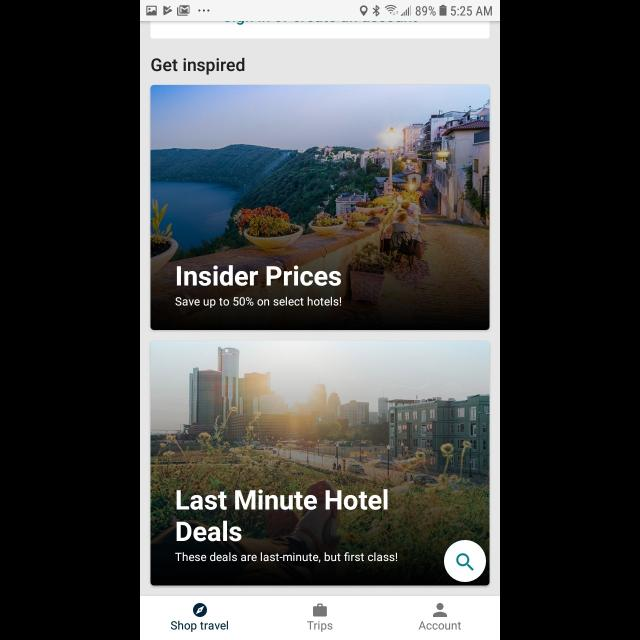icon: (444, 540, 486, 582), (193, 603, 207, 617), (433, 603, 447, 617), (313, 604, 327, 616)
image: (150, 340, 490, 586), (150, 86, 490, 330)
text: (176, 490, 388, 542), (177, 266, 341, 286), (175, 552, 397, 562), (176, 296, 342, 308), (151, 59, 245, 76), (172, 620, 228, 632), (418, 622, 462, 630), (308, 620, 332, 632)
uppertaskbar: (140, 1, 500, 22)
